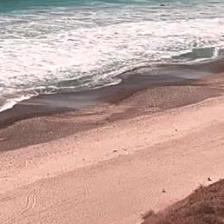surfer: (160, 3, 170, 7)
